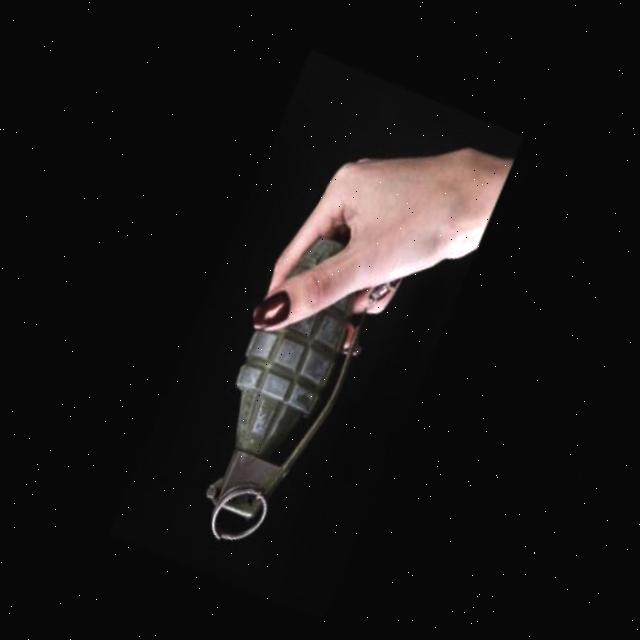grenade: (154, 209, 410, 594)
